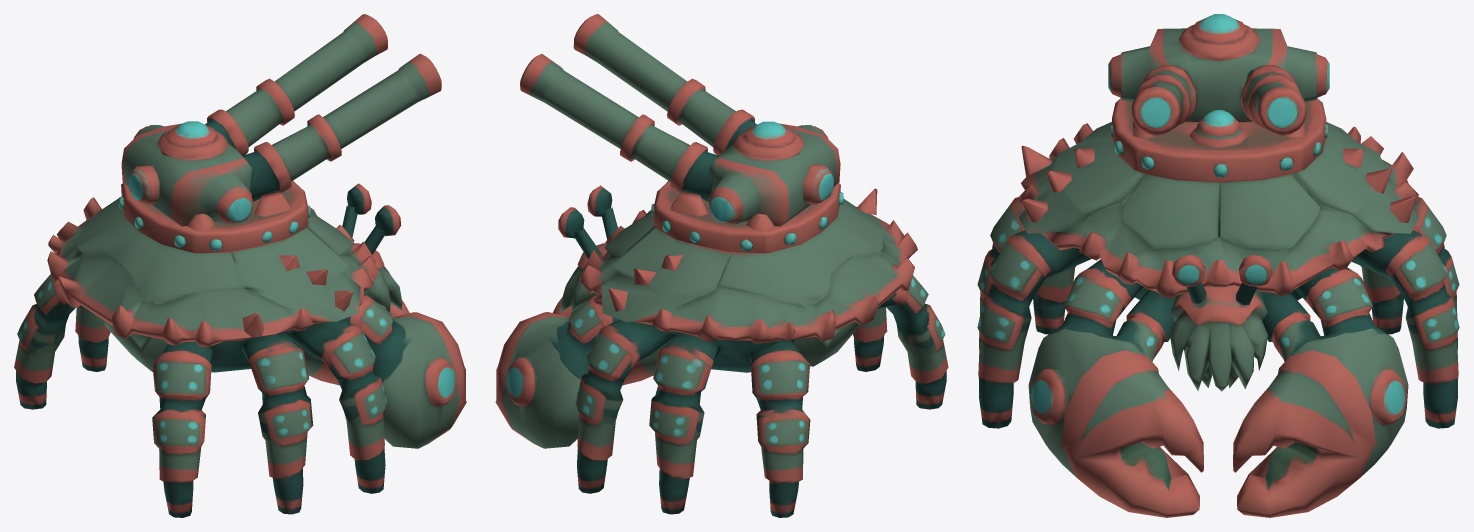
The model's file is water_leviathan.glb.
The picture shows the model from 3 angles, left to right: view 1: azimuth 30°, elevation 25°; view 2: azimuth 150°, elevation 25°; view 3: azimuth 270°, elevation 25°; orthographic projection. The views are drawn at different scales.
Visible parts, largest first — view 1: tripo_node_5041dde2-f6b0-4819-ba28-53988995e55a; view 2: tripo_node_5041dde2-f6b0-4819-ba28-53988995e55a; view 3: tripo_node_5041dde2-f6b0-4819-ba28-53988995e55a.
Part boxes in pixels (box(x1,y1,x2,y2)): tripo_node_5041dde2-f6b0-4819-ba28-53988995e55a: box(14, 14, 466, 517); tripo_node_5041dde2-f6b0-4819-ba28-53988995e55a: box(495, 14, 948, 517); tripo_node_5041dde2-f6b0-4819-ba28-53988995e55a: box(977, 14, 1459, 517).
Bounding box in the file's own units: 0.9849 × 0.9585 × 0.9995.
Materials: 1 (1 with a texture image).
